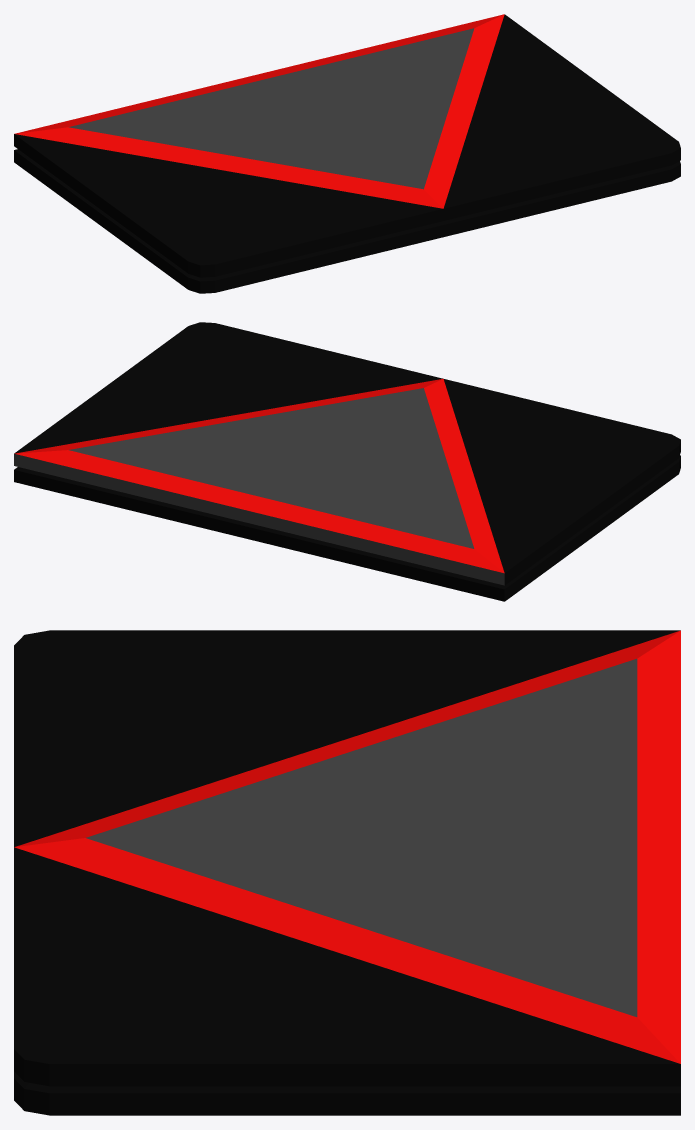
File: Laptop.fbx
The picture shows the model from 3 angles, top to bottom: view 1: azimuth 30°, elevation 25°; view 2: azimuth 150°, elevation 25°; view 3: azimuth 270°, elevation 25°; orthographic projection. The views are drawn at different scales.
Parts seen in each view (by area): view 1: Cube; view 2: Cube; view 3: Cube.
Boxes of the visible parts, box(x1,y1,x2,y2) form: Cube: box(14, 14, 680, 293); Cube: box(14, 322, 680, 601); Cube: box(14, 630, 680, 1115).
Bounding box in the file's own units: 40 × 2.61 × 26.
